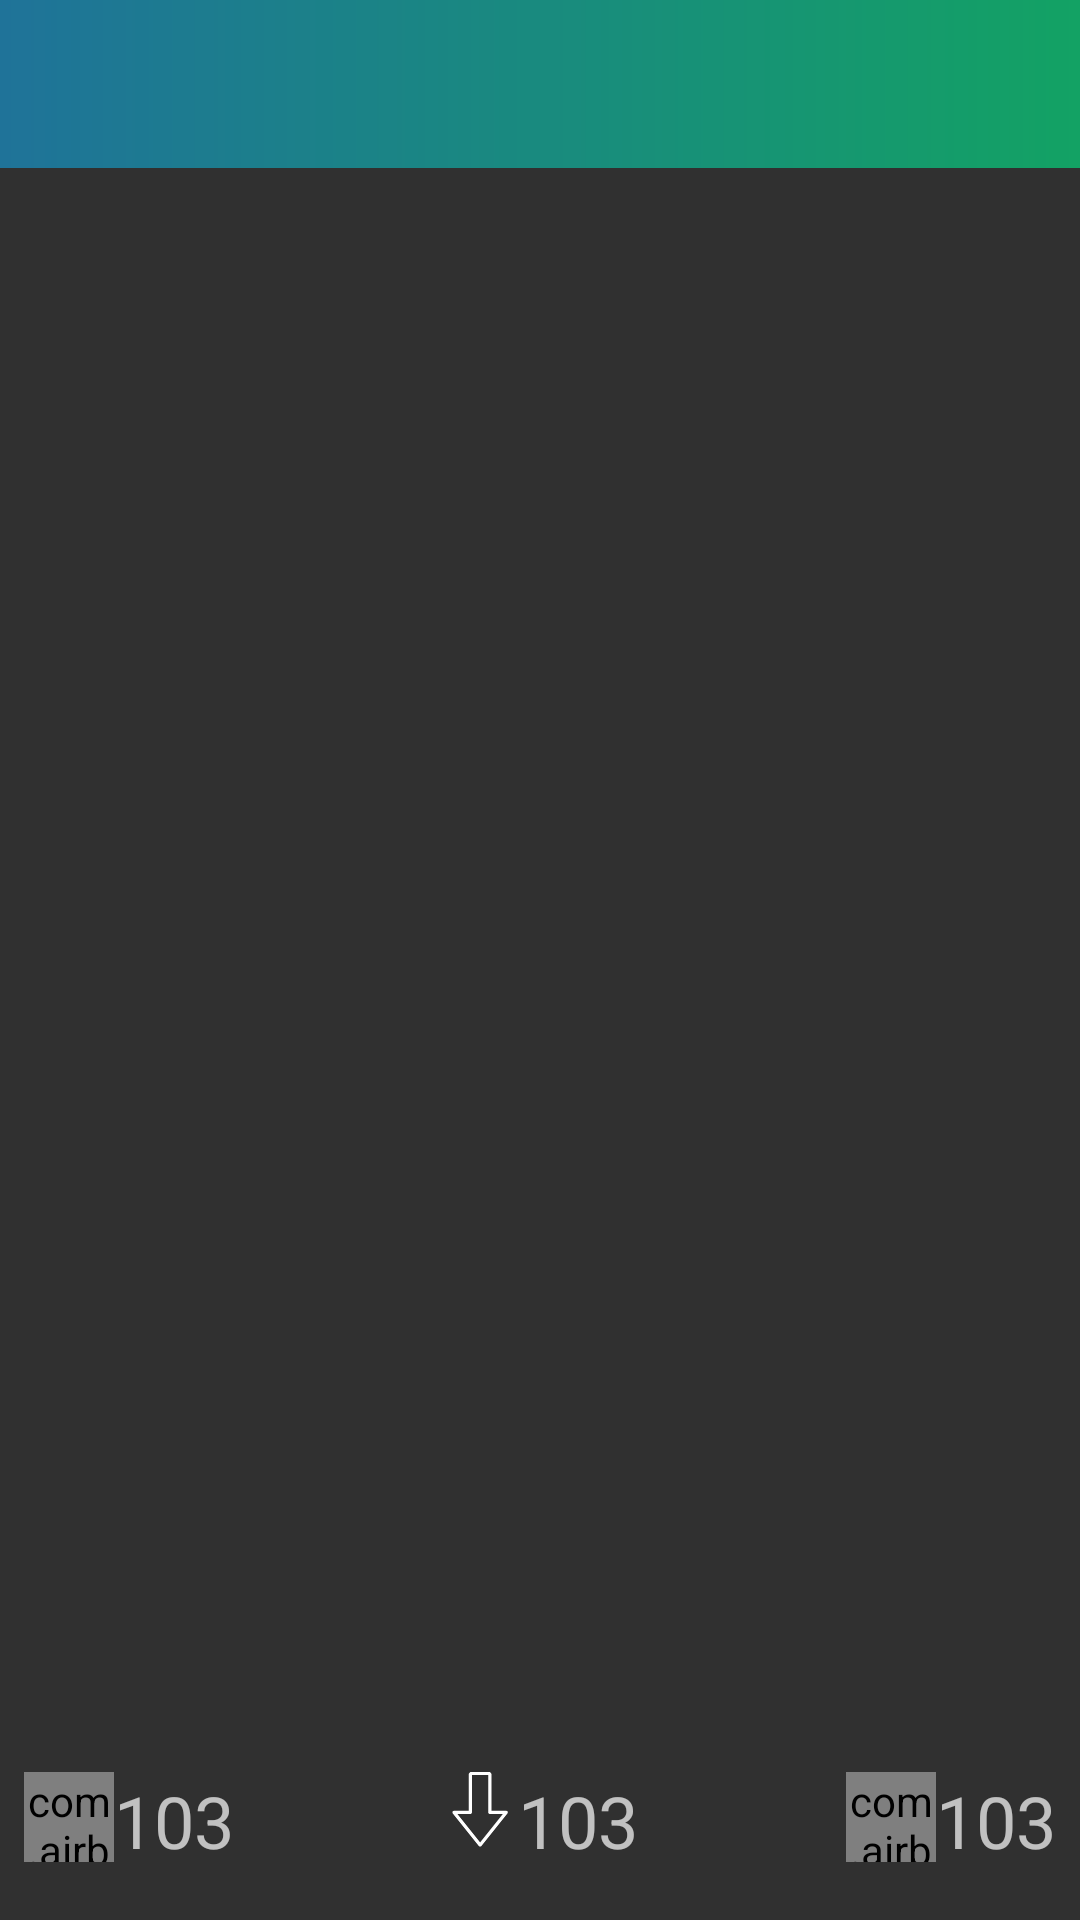

Icon bounding boxes for this 1080px×1920px phone screenshot, format (x1, y1, x2, y2):
down arrow: (452, 1772, 508, 1847)
